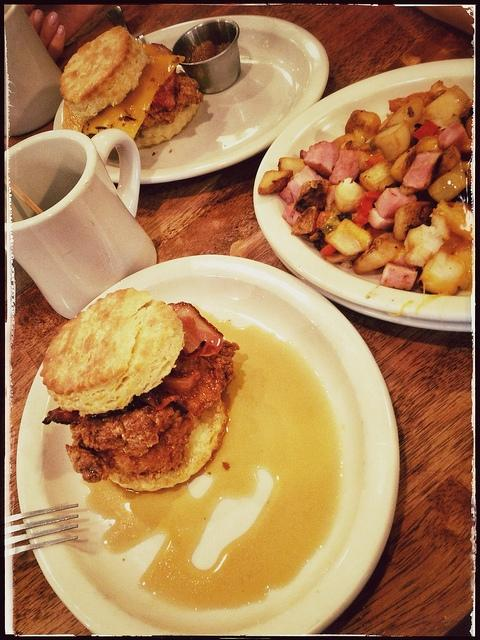potato: (404, 212, 450, 268), (417, 250, 471, 296), (352, 232, 404, 275), (425, 86, 474, 130), (324, 218, 373, 257), (430, 199, 472, 242), (392, 201, 436, 241), (428, 163, 468, 202), (374, 121, 410, 163), (386, 97, 424, 128), (334, 178, 366, 214), (359, 162, 396, 192), (345, 110, 381, 140), (258, 169, 294, 195), (390, 148, 417, 182), (437, 144, 462, 178), (278, 157, 306, 176), (415, 136, 439, 154), (458, 138, 472, 154)
